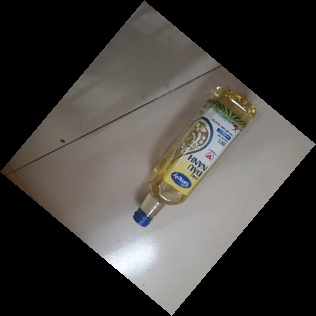Simply: (130, 81, 259, 233)
